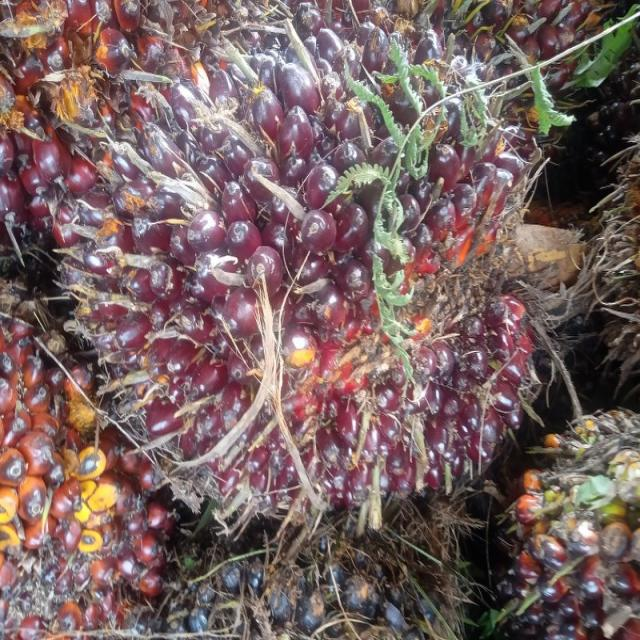fraksi 1: (31, 9, 545, 527)
